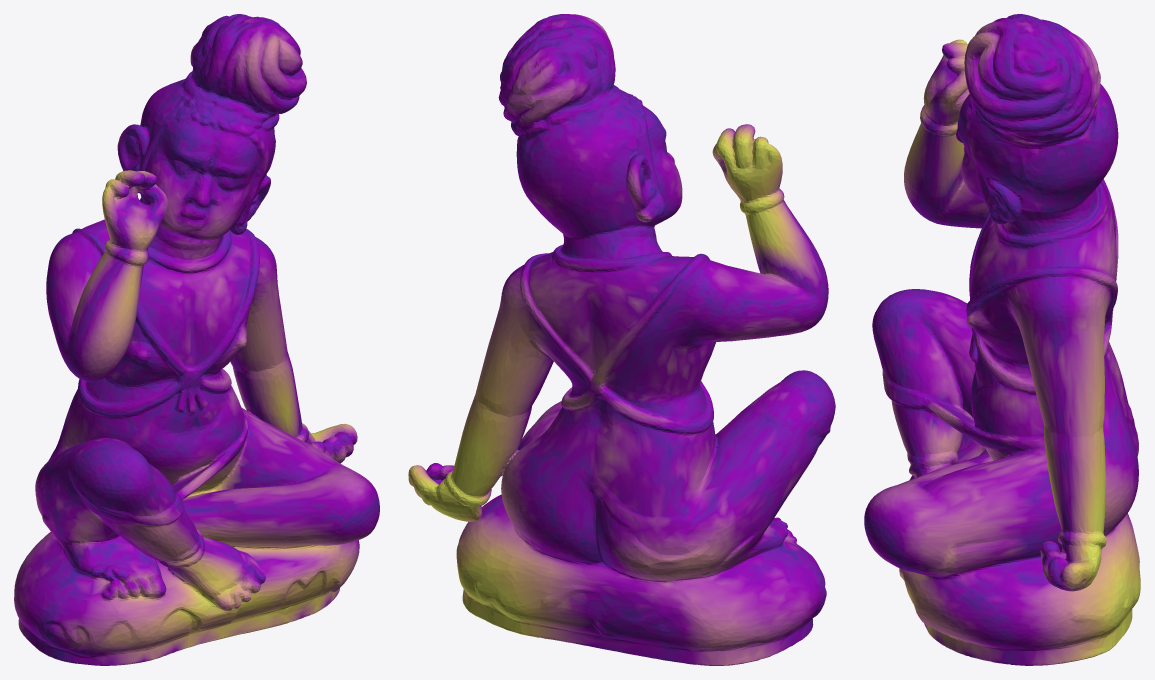
Rendered from iter_13.glb.
3 views of the same model, side by side, from view 1: azimuth 30°, elevation 25°; view 2: azimuth 150°, elevation 25°; view 3: azimuth 270°, elevation 25° (orthographic). The views are drawn at different scales.
Visible parts, largest first — view 1: textured_mesh; view 2: textured_mesh; view 3: textured_mesh.
Boxes of the visible parts, x1,y1,x2,y2 form: textured_mesh: (14, 14, 379, 665); textured_mesh: (408, 14, 835, 665); textured_mesh: (864, 14, 1140, 665).
Bounding box in the file's own units: 1.34 × 1.99 × 0.831.
